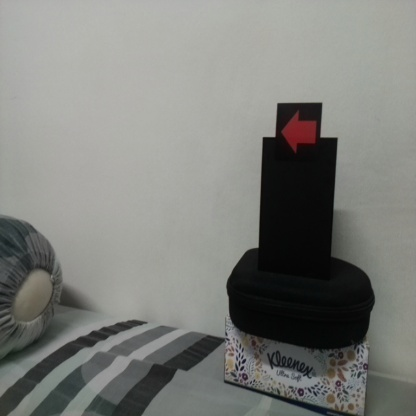id_4: (277, 104, 321, 161)
